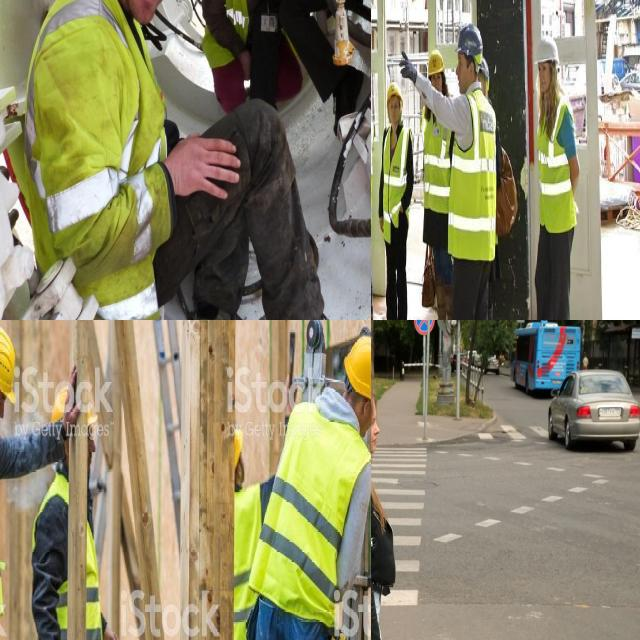face_nomask: (114, 0, 174, 21), (454, 50, 476, 100), (533, 59, 554, 93), (387, 95, 400, 123)
hand_glove: (396, 48, 422, 94)
hand_noglove: (178, 127, 245, 209), (102, 623, 124, 640), (268, 0, 290, 10)
head_helmet: (343, 322, 371, 413), (0, 320, 19, 404), (454, 23, 483, 71), (52, 383, 86, 418), (534, 33, 560, 67), (426, 48, 444, 80), (232, 429, 245, 472), (386, 82, 404, 108)
person: (29, 0, 204, 317), (284, 337, 371, 640), (31, 385, 110, 640), (428, 29, 496, 320), (528, 34, 580, 320), (422, 51, 455, 320), (200, 0, 286, 96), (380, 83, 410, 320), (227, 430, 260, 640)
vest: (33, 0, 170, 303), (283, 411, 350, 617), (33, 480, 106, 640), (448, 88, 495, 262), (535, 88, 579, 235), (210, 0, 284, 55), (381, 126, 412, 240), (421, 108, 452, 212), (233, 487, 253, 640)
